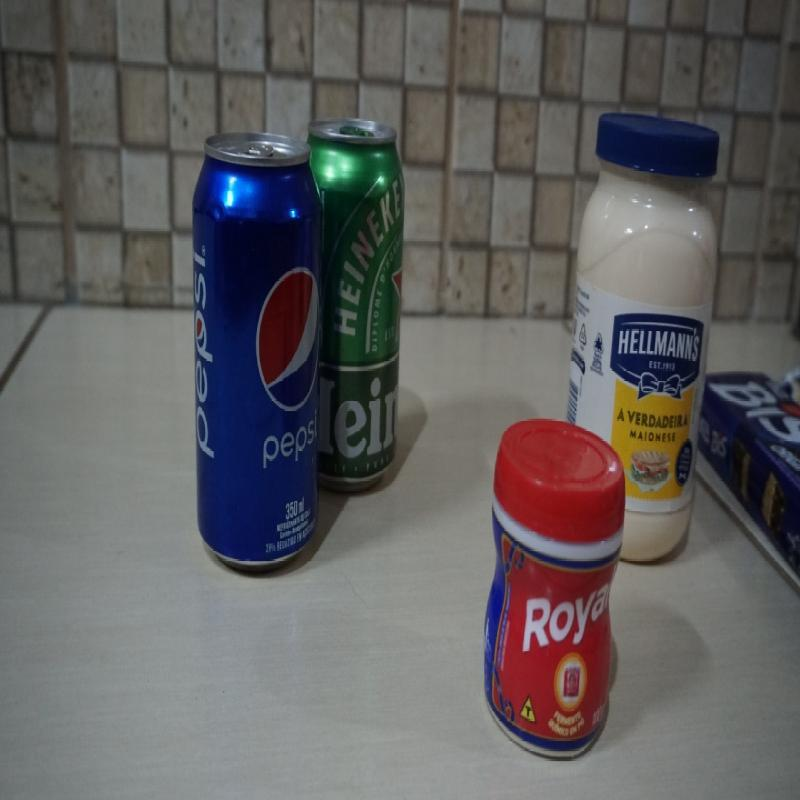Beer can: (305, 115, 407, 495)
Mayonnaise: (564, 110, 722, 568)
Soda can: (191, 129, 323, 579)
Yeast: (482, 416, 627, 762)
